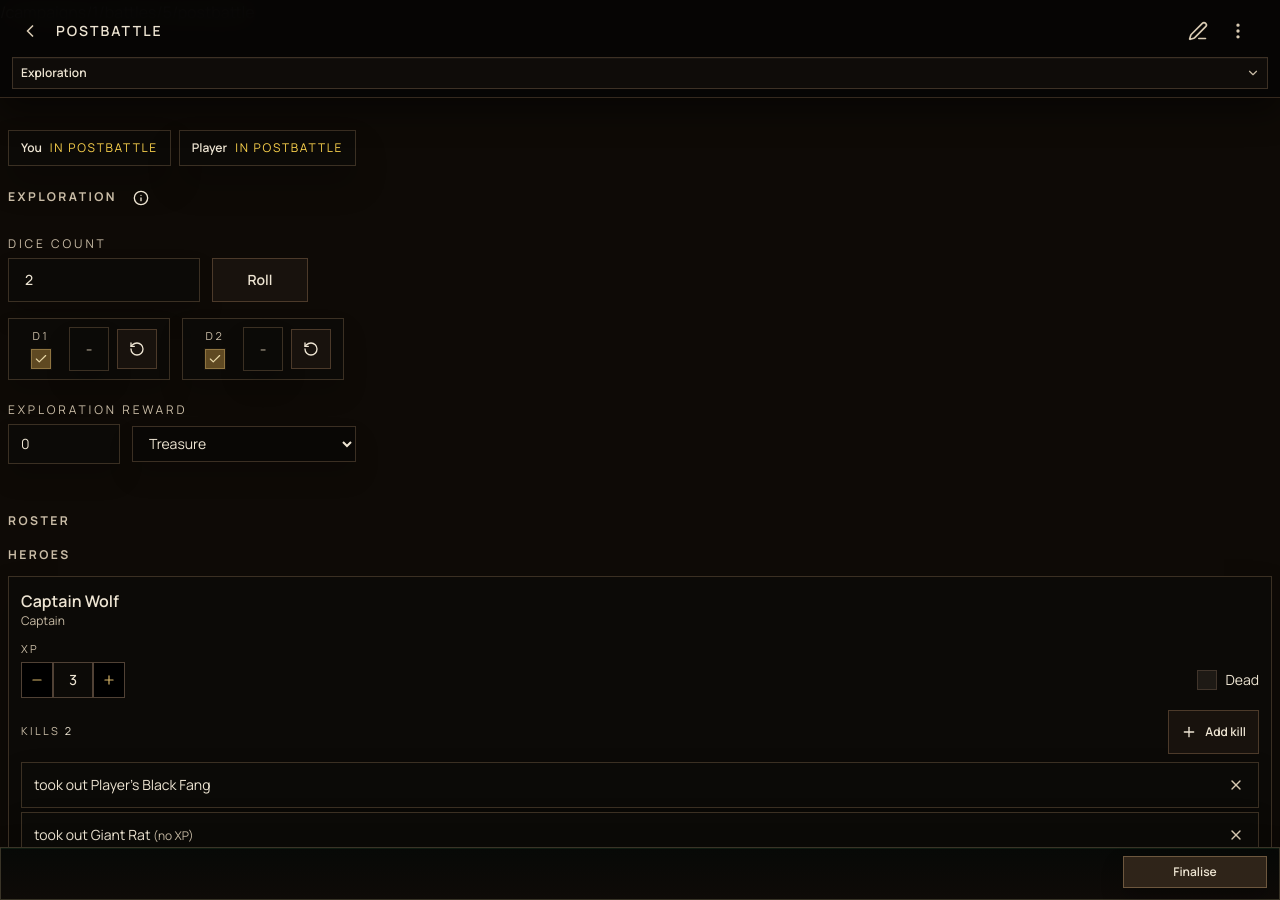
it: BattlePostbattle requests › skips postbattle only from More actions, after a confirm listing what won't be applied (BUG-48)
Expected: the text "Captain Wolf" is shown, [21,589,119,613]
Click the button named "More actions" at (1238, 31), box [1216,9,1260,53]
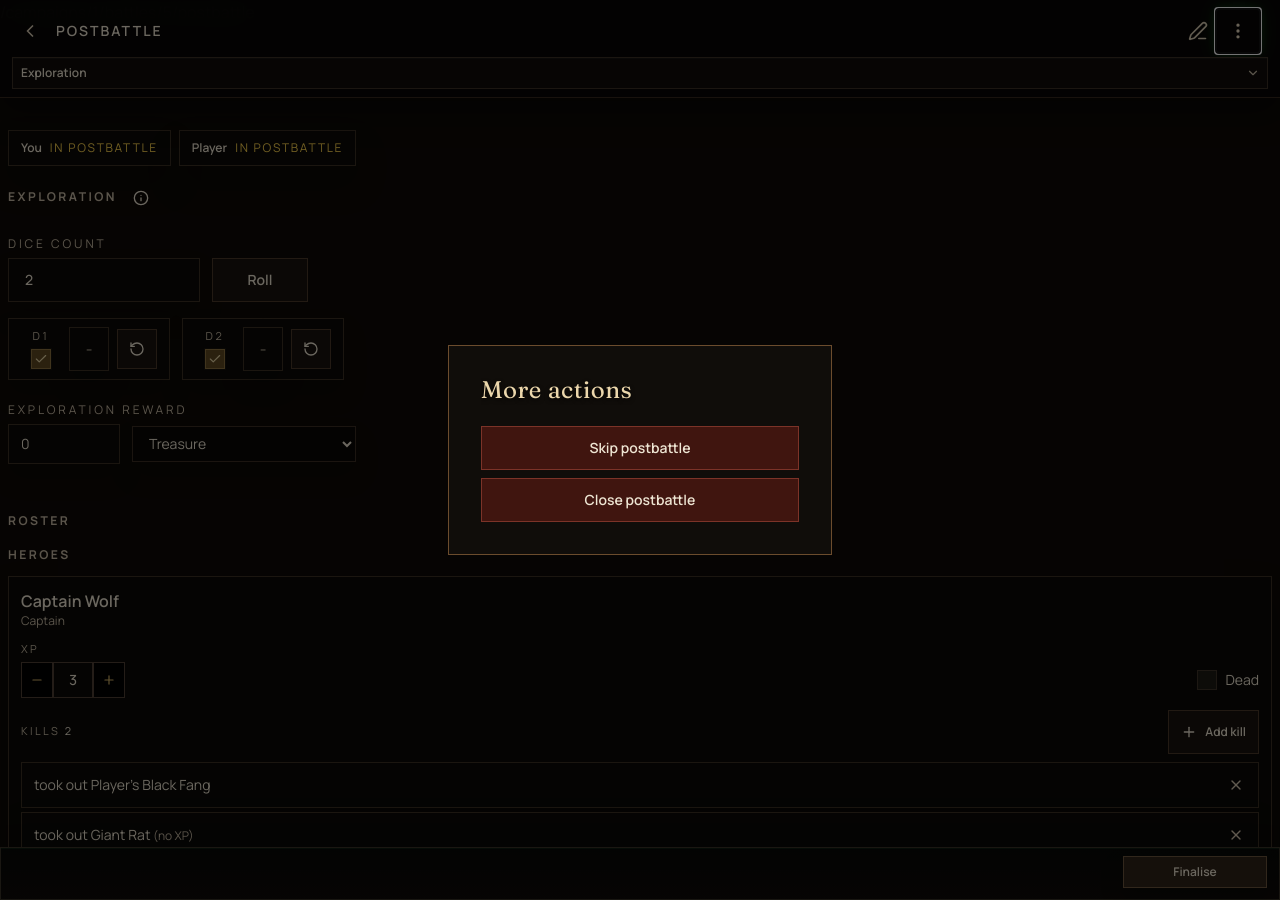
Click the button "Skip postbattle" at (640, 448), box [481,426,799,470]
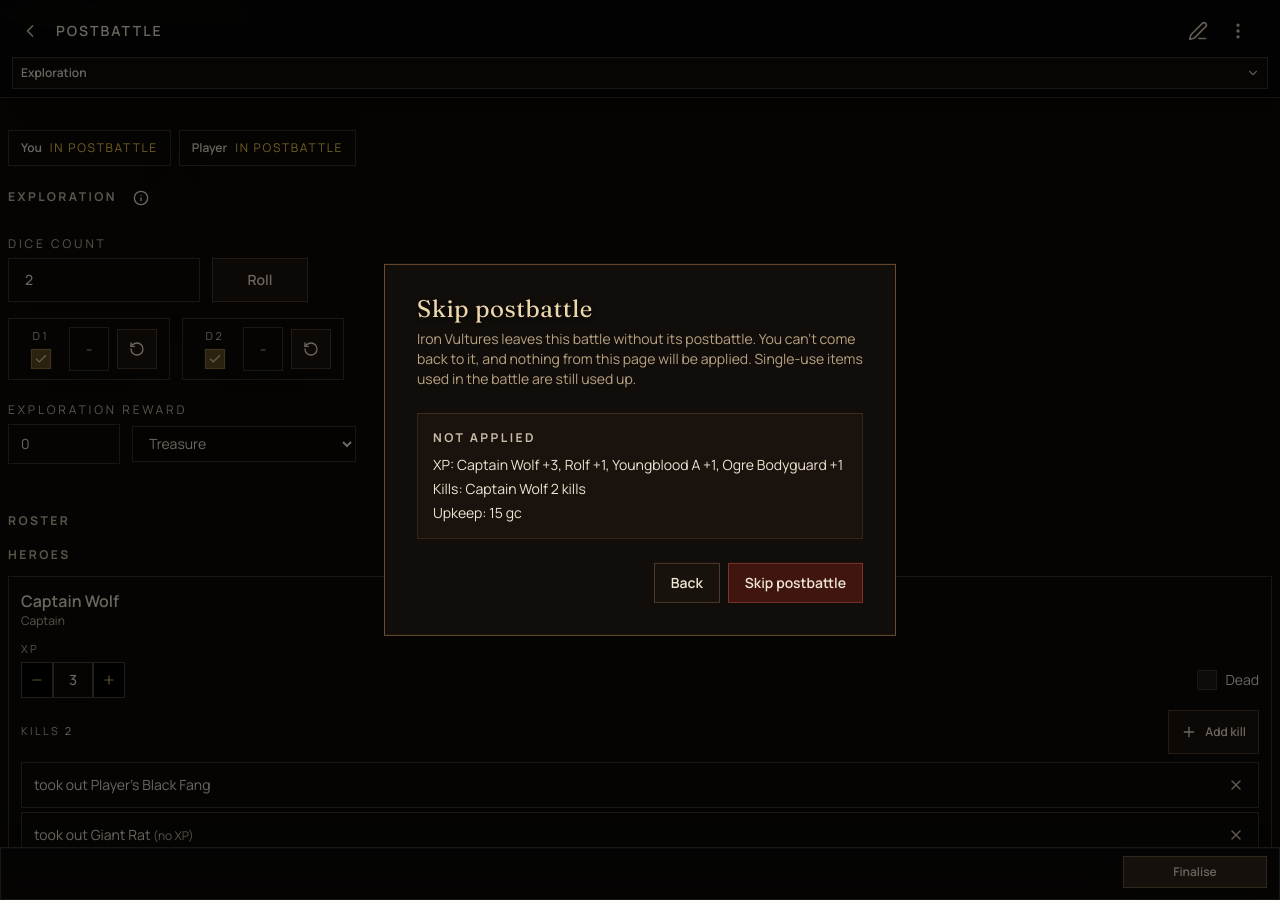
Now the list items read "XP: Captain Wolf +3, Rolf +1, Youngblood A +1, Ogre Bodyguard +1", "Kills: Captain Wolf 2 kills", "Upkeep: 15 gc", in this order, box [433,455,847,475]; [433,479,586,498]; [433,503,522,522]
Click the button "Skip postbattle" at (795, 583), box [728,563,863,603]
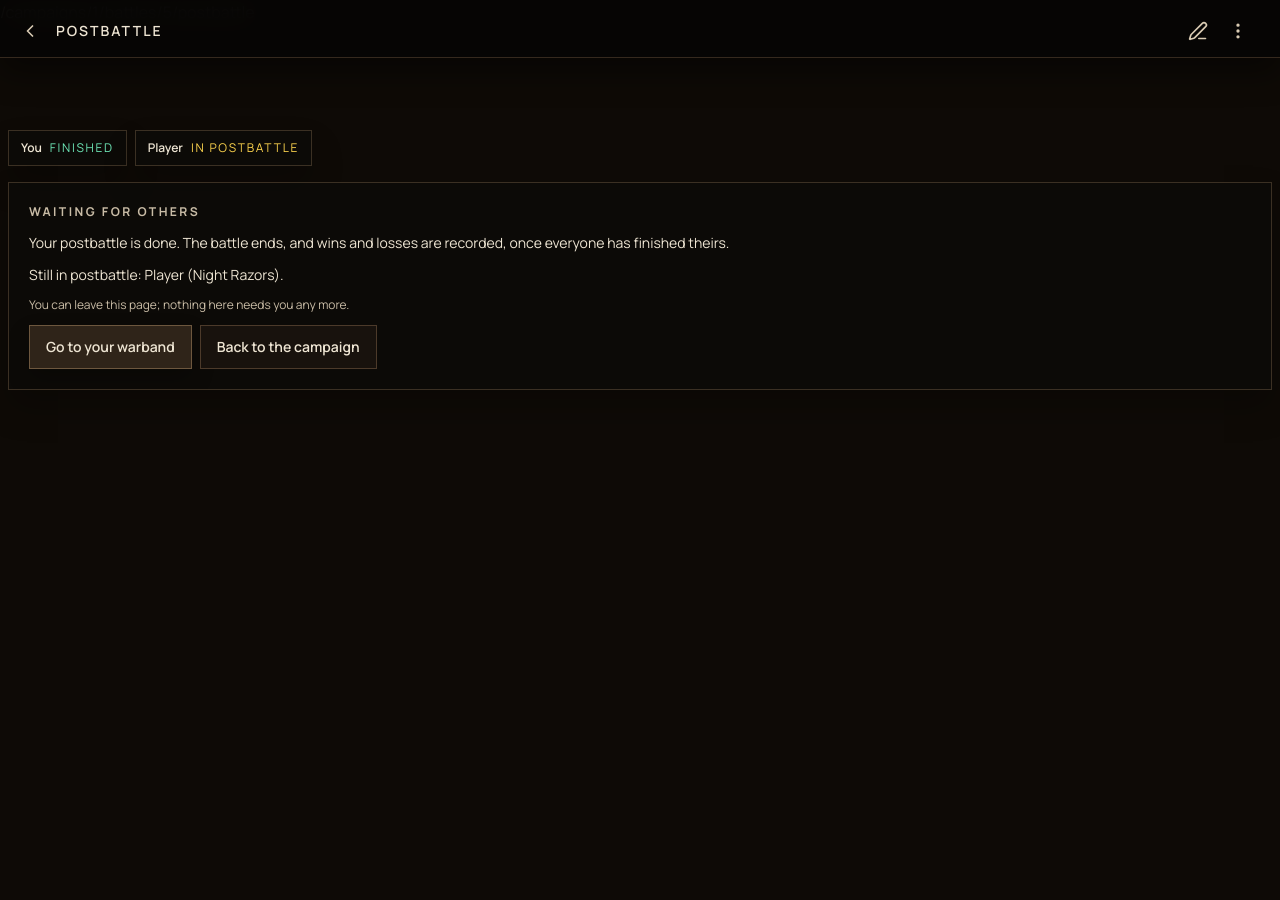
Now the element "Waiting for others" is shown, box [8,182,1272,390]
Now the dropdown is gone
Now the button "Finalis" is gone
